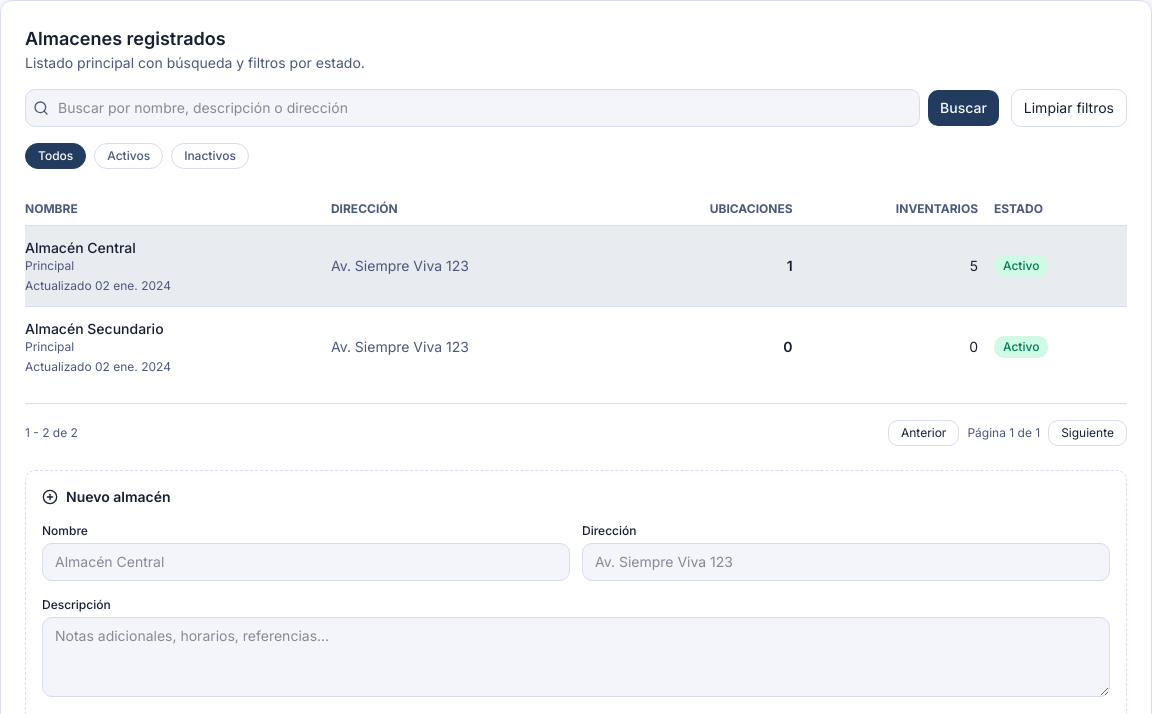
Test: AlmacenesManager UI › cambia el almacén seleccionado al hacer click y carga sus ubicaciones
Step 1. Click the text "Almacén Secundario" → x=94, y=328, box [25,320,164,337]
(page scrolled)
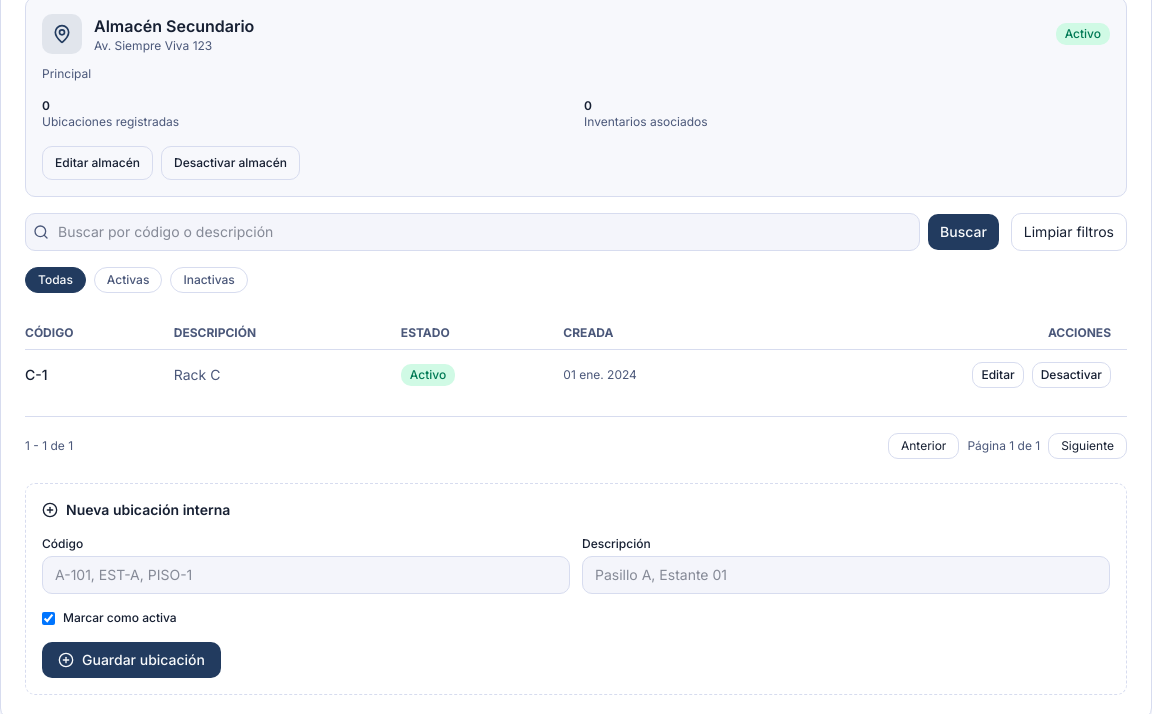
Result: the text "Rack C" is shown at [174,350,401,400]
